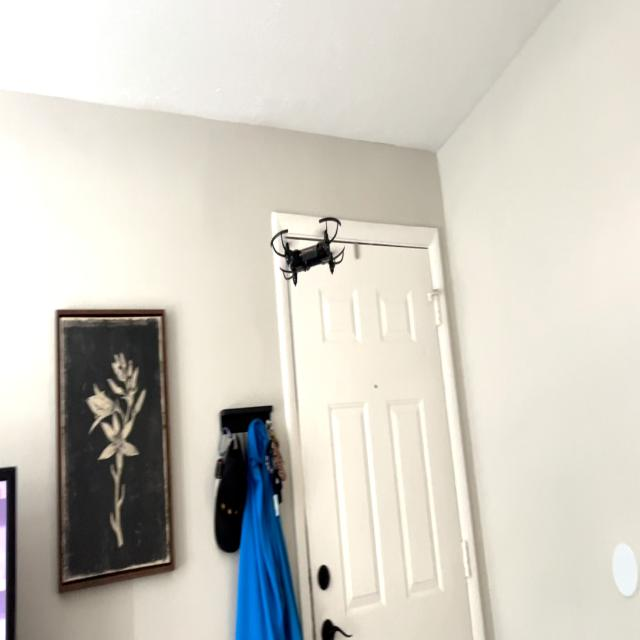drone: (266, 188, 350, 302)
